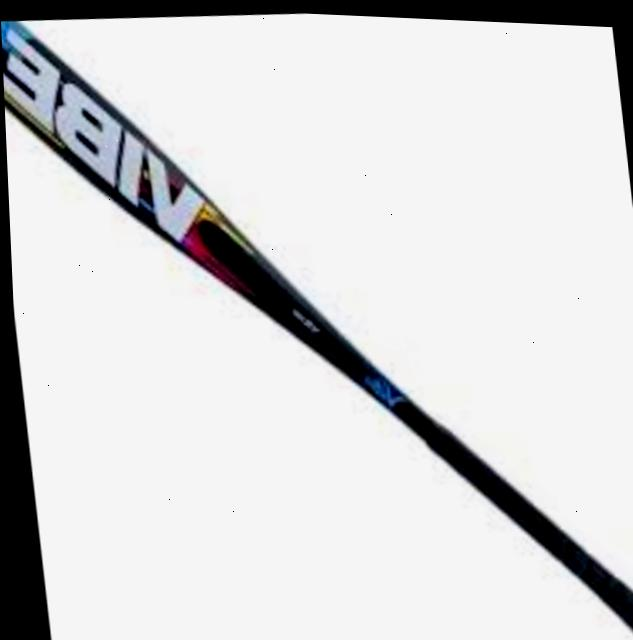baseball bat: (1, 21, 633, 640)
